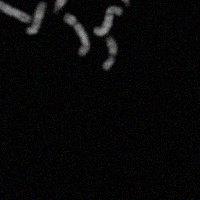chromosome: (64, 13, 89, 55), (93, 6, 122, 35), (0, 0, 30, 22), (26, 2, 45, 35), (101, 37, 116, 70), (54, 0, 73, 12), (115, 0, 130, 4)
